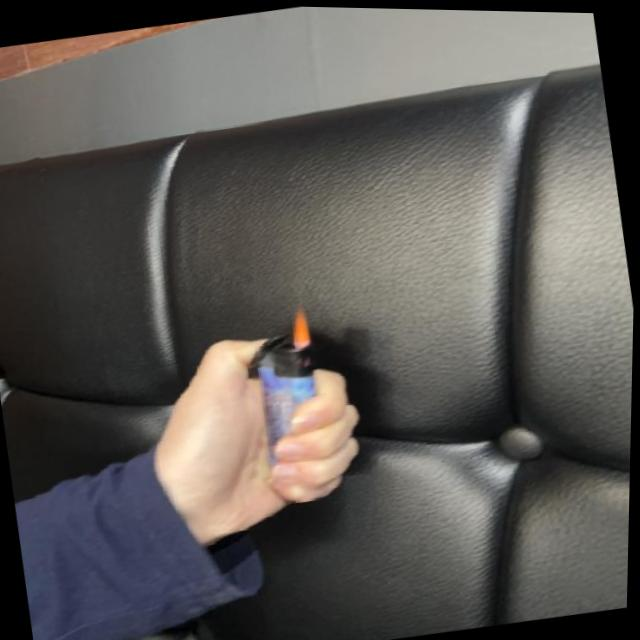Fire: (287, 302, 312, 347)
